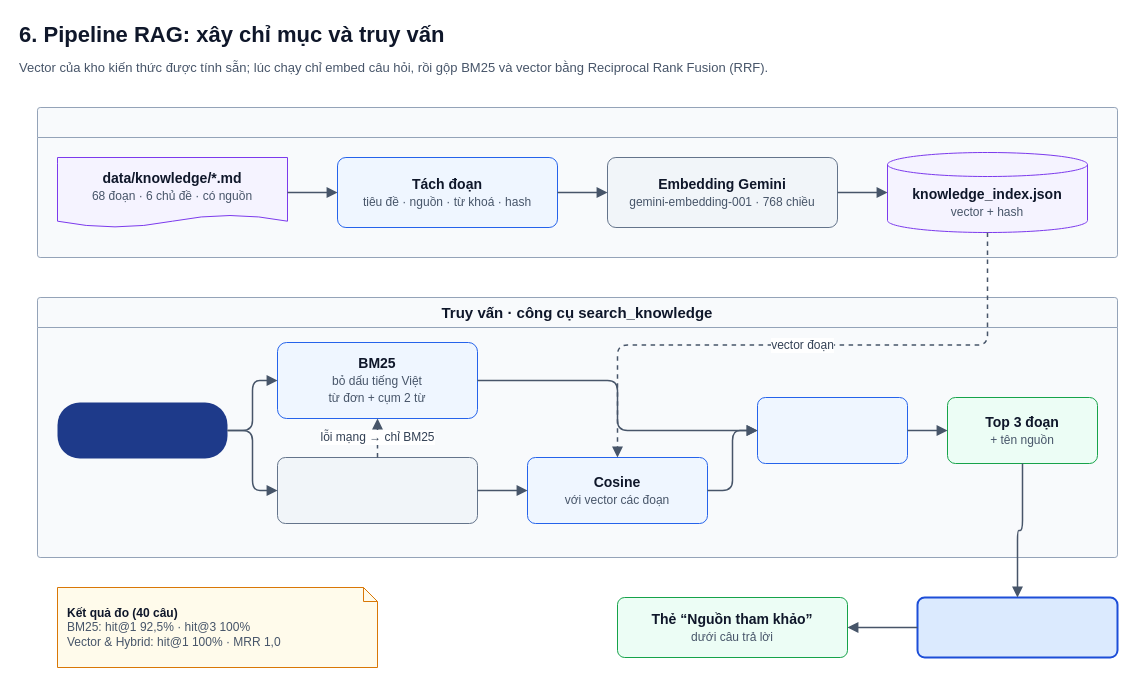
Image size: 1135x685. Some labels were removed from this diagram. Here are the shapes that lost their labels. From the top down, the box of each, then its label:
(36, 106, 1118, 258): Xây chỉ mục · scripts/build_knowledge_index.py (chạy khi sửa kho)
(57, 402, 227, 458): Câu hỏi của agent
(756, 396, 908, 464): Gộp RRF 1 / (60 + hạng)
(276, 456, 478, 524): Embed câu hỏi ~0,3-0,5 s · có cache
(916, 596, 1118, 658): Agent trả lời trích [1], [2]
